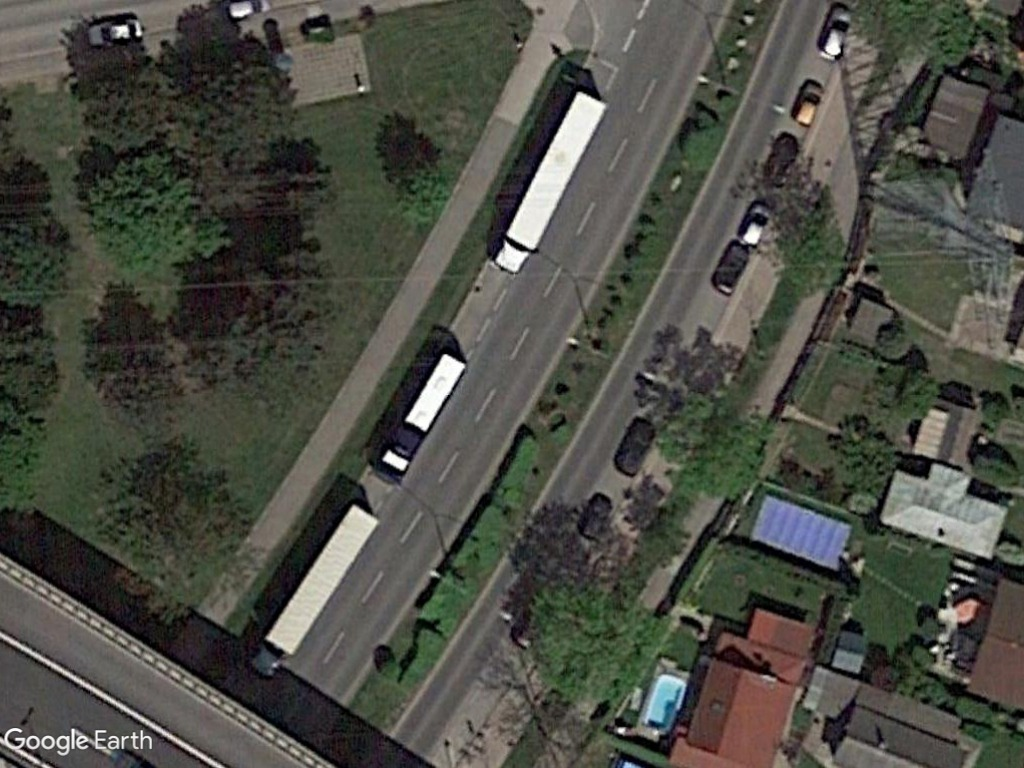bus: (374, 351, 468, 482)
car: (816, 4, 856, 61), (737, 202, 774, 251), (791, 79, 825, 128)
longvehicle: (247, 500, 382, 679), (490, 88, 611, 272)
